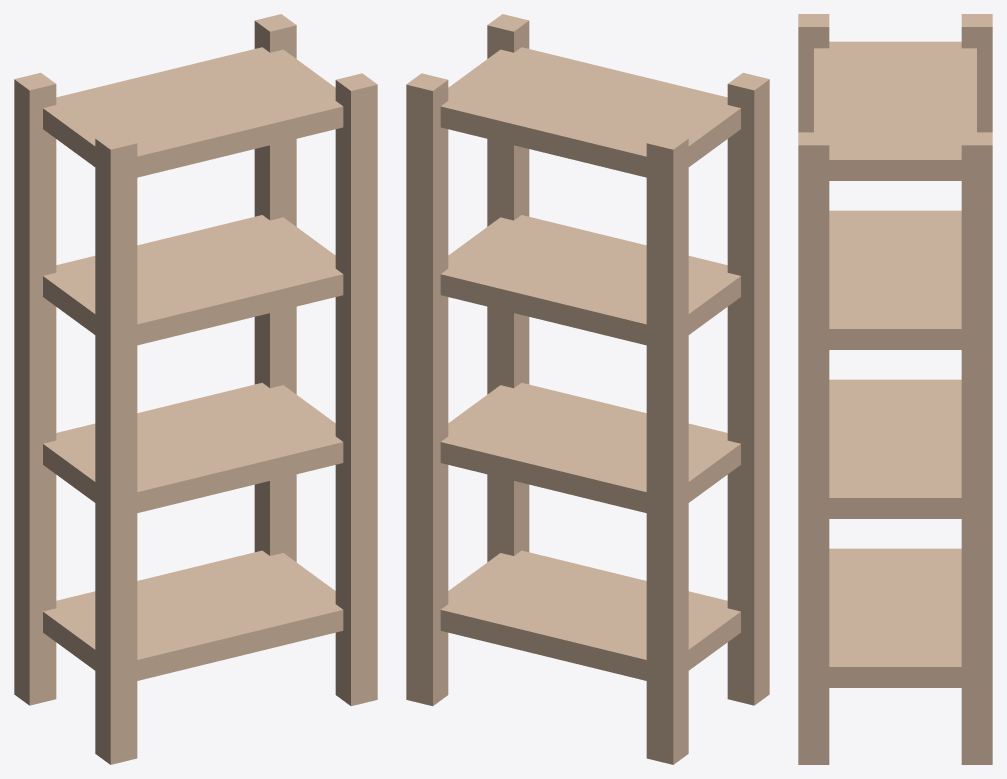
Rendered from bookcase_open.glb.
3 renders of one model, left to right at view 1: azimuth 30°, elevation 25°; view 2: azimuth 150°, elevation 25°; view 3: azimuth 270°, elevation 25°, orthographic.
Parts seen in each view (by area): view 1: bookcaseOpen(Clone); view 2: bookcaseOpen(Clone); view 3: bookcaseOpen(Clone).
Boxes of the visible parts, x1,y1,x2,y2 form: bookcaseOpen(Clone): (14,14,377,764); bookcaseOpen(Clone): (406,14,769,764); bookcaseOpen(Clone): (798,14,992,764).
Size of the model in its own units: 0.84 by 1.85 by 0.525.
